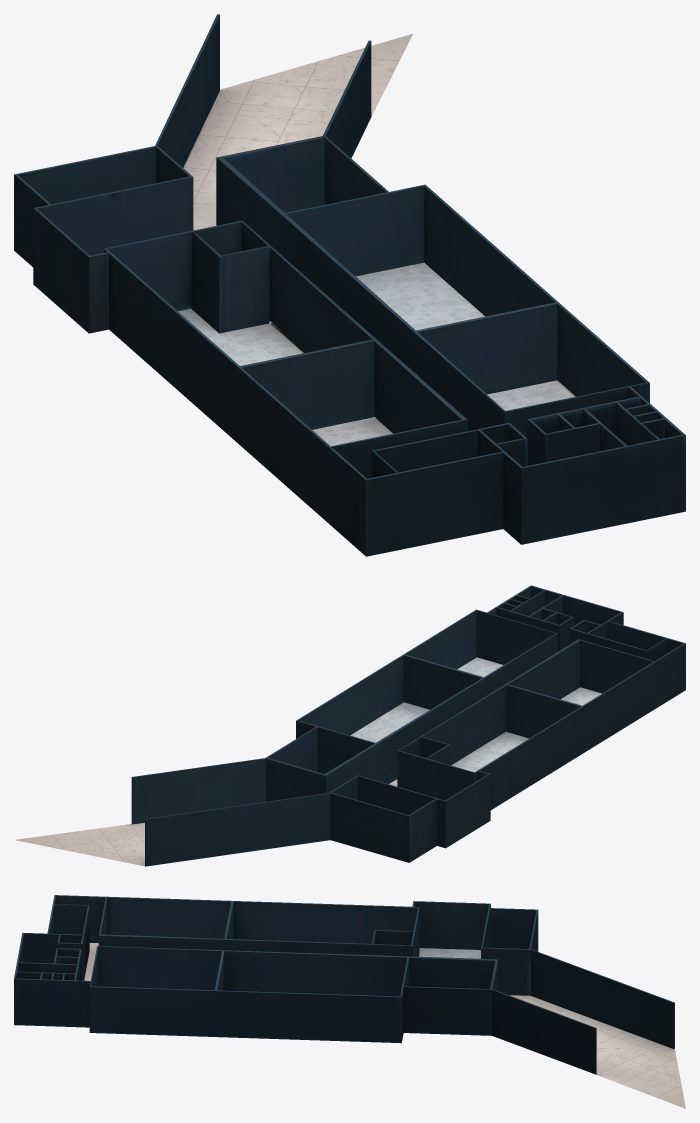
3 views of the same model, one above another, from view 1: azimuth 30°, elevation 25°; view 2: azimuth 150°, elevation 25°; view 3: azimuth 270°, elevation 25° (orthographic). The views are drawn at different scales.
Visible parts, largest first — view 1: Walls.001, Mesh20.002, Travel Studio, Alif Crae, class1, Bolt & Volt Room; view 2: Walls.001, Mesh20.002, Travel Studio, Alif Crae, class1; view 3: Walls.001, Mesh20.002, Mesh6.
Boxes of the visible parts, x1,y1,x2,y2 form: Walls.001: [14, 14, 685, 556]; Mesh20.002: [183, 34, 412, 229]; Travel Studio: [356, 262, 484, 330]; Alif Crae: [178, 308, 374, 416]; class1: [487, 380, 575, 410]; Bolt & Volt Room: [312, 417, 392, 446]; Walls.001: [131, 585, 685, 866]; Mesh20.002: [15, 822, 145, 866]; Travel Studio: [350, 702, 429, 742]; Alif Crae: [450, 731, 528, 772]; class1: [457, 657, 503, 676]; Walls.001: [14, 895, 674, 1074]; Mesh20.002: [519, 996, 685, 1108]; Mesh6: [419, 948, 480, 958].
Bounding box in the file's own units: 6.99 × 0.8924 × 11.82.
1 material, 1 textured.
